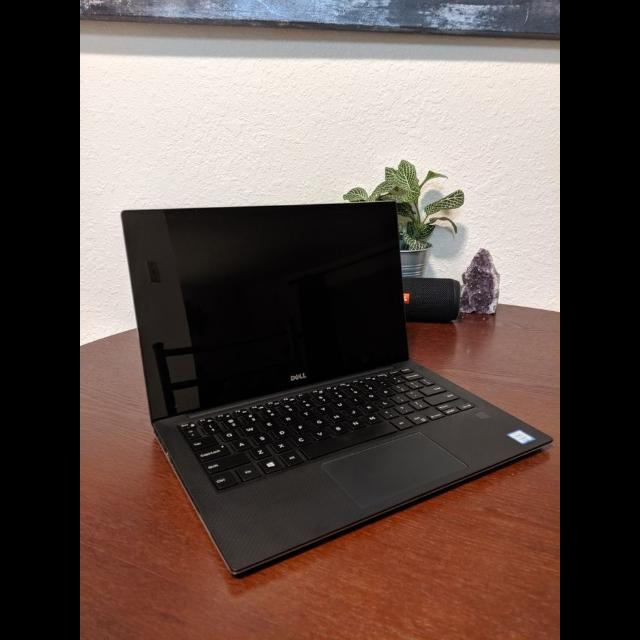laptop: (123, 202, 551, 573)
